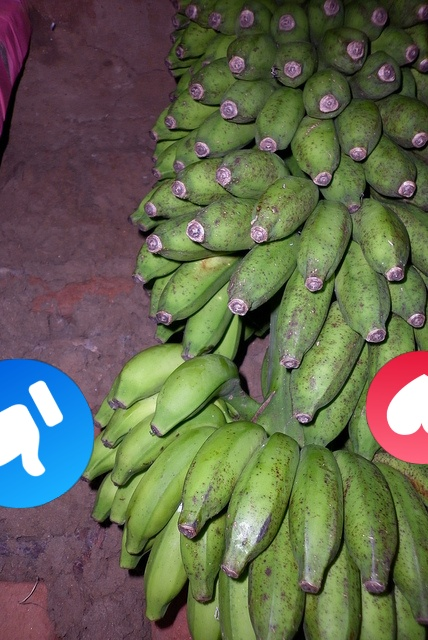like: (0, 359, 94, 508)
love: (366, 351, 428, 464)
